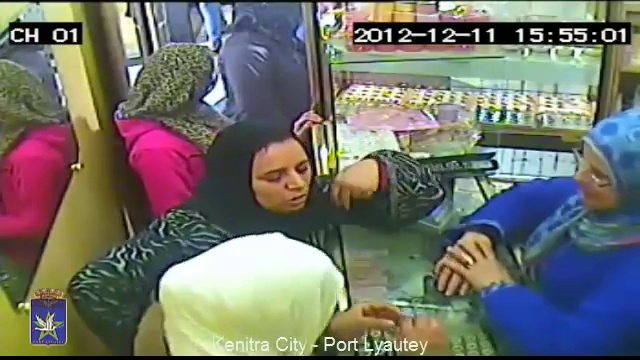face: (247, 150, 316, 216), (577, 146, 621, 211)
